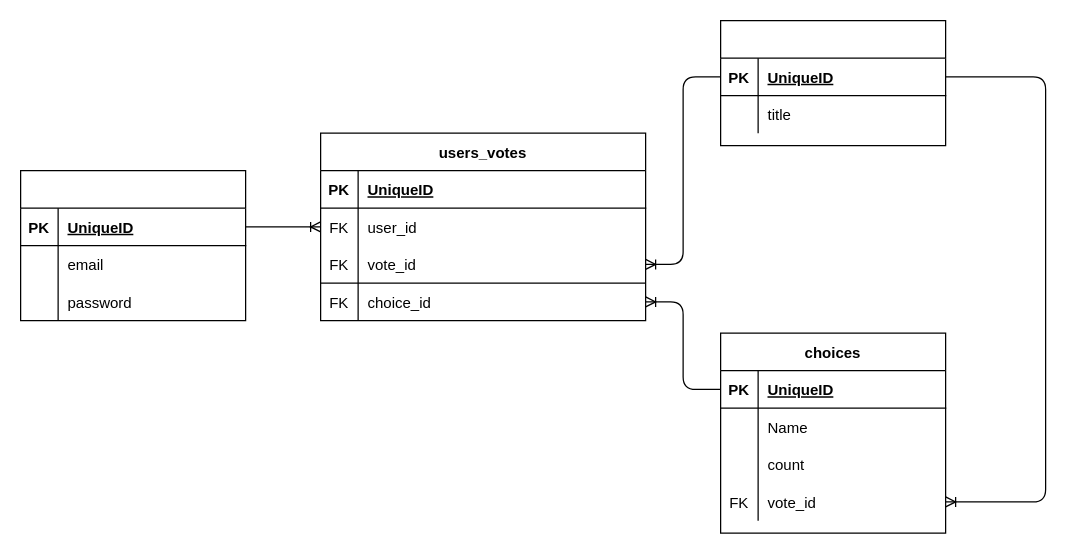
The diagram is 1066 pixels wide and 554 high, and some of its shapes have lost their labels. Here are the shapes that lost their labels. From the top down, the box of each, then its label:
(719, 19, 946, 146): votes
(19, 169, 246, 321): users
